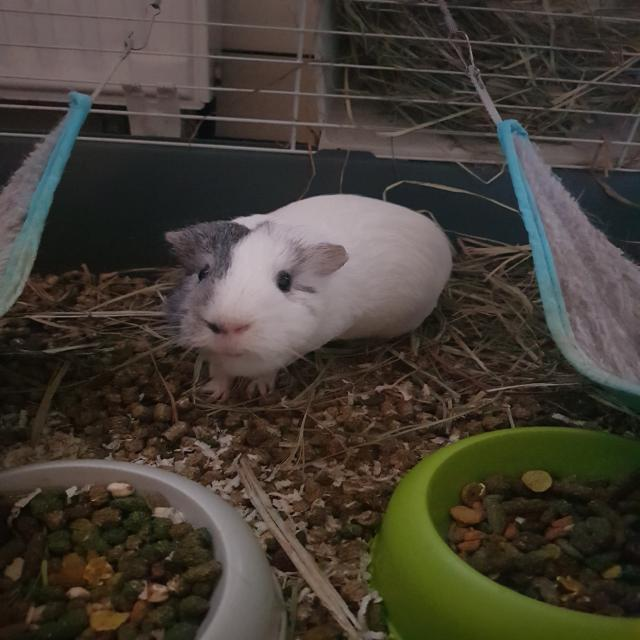guinea pig: (161, 191, 458, 409)
